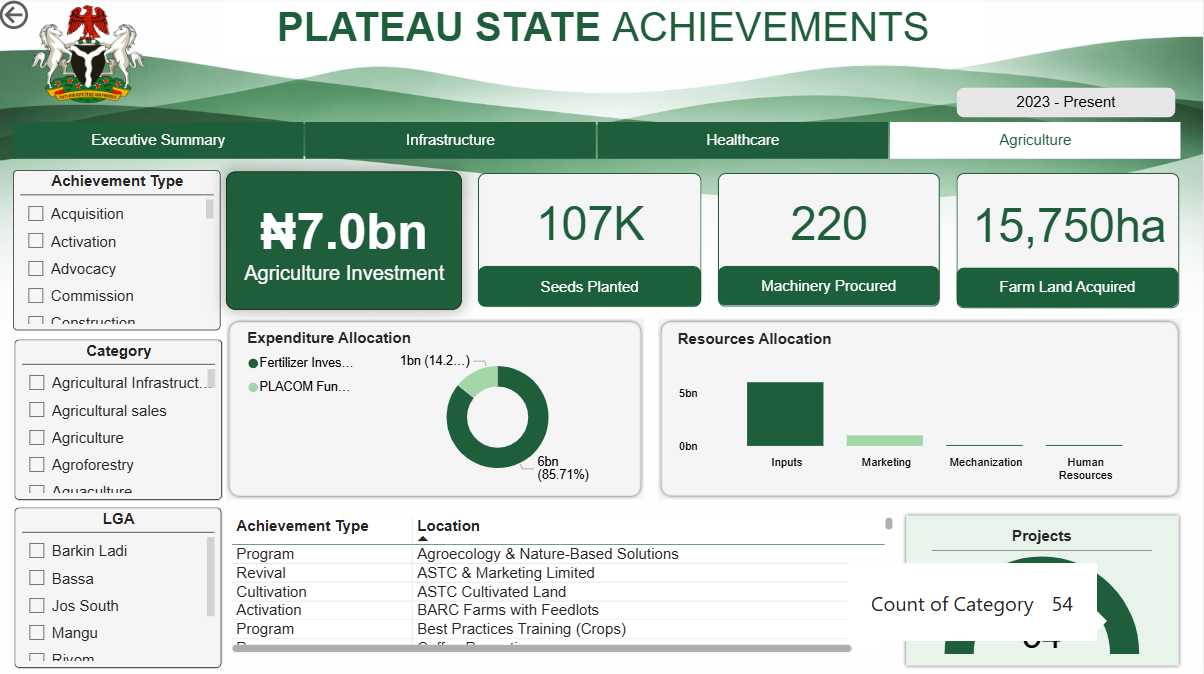

The dashboard page shown, as its layout file describes it:
{"tool":"powerbi","page":{"name":"Agriculture","canvas":[1280,720],"ordinal":3},"visuals":[{"type":"textbox","box":[240.2,3.2,809.6,62],"z":0},{"type":"image","box":[0,0,197.2,130.4],"z":1000},{"type":"pageNavigator","box":[19.1,133.6,1239.1,39.8],"z":2000},{"type":"shape","box":[1018,95.4,235.4,35],"z":3000},{"type":"slicer","title":"Achievement Type","fields":{"Values":["KPI_Agriculture.Achievement Type"]},"box":[19.1,184.5,220,170],"z":4000},{"type":"textbox","box":[245,186.8,250,146.6],"z":5000,"group":"g3"},{"type":"slicer","title":"Category","fields":{"Values":["KPI_Agriculture.Category"]},"box":[20,364,220,170],"z":5000},{"type":"card","fields":{"Values":["00_Measures.Agriculture Investment"]},"box":[245,185,250,146.6],"z":6000,"group":"g3"},{"type":"slicer","title":"LGA","fields":{"Values":["KPI_Agriculture.LGA "]},"box":[20.7,542.4,219.5,170.2],"z":6000},{"type":"group","id":"g1","title":"Group 1","box":[765,185,238.3,146.7],"z":7000},{"type":"shape","box":[510,186.8,240,144.9],"z":7000,"group":"g2"},{"type":"group","id":"g2","title":"Group 3","box":[510,185,240,146.7],"z":8000},{"type":"shape","box":[765,186.8,238.3,144.9],"z":8000,"group":"g1"},{"type":"group","id":"g3","title":"Group 4","box":[245,185,250,146.7],"z":9000},{"type":"shape","box":[1018.3,186.7,239.3,146.7],"z":9000,"group":"g4"},{"type":"card","fields":{"Values":["00_Measures.Seeds Planted"]},"box":[510,185,240,105.5],"z":10000,"group":"g2"},{"type":"group","id":"g4","title":"Group 5","box":[1018.3,186.7,240,146.7],"z":10000},{"type":"card","fields":{"Values":["00_Measures.Agricultural Machinery Procured"]},"box":[765,185,238.3,105.5],"z":11000,"group":"g1"},{"type":"shape","box":[961.7,546.7,296.7,166.7],"z":11000},{"type":"card","fields":{"Values":["00_Measures.Farm Land Acquired"]},"box":[1019.5,187,238.8,106.6],"z":12000,"group":"g4"},{"type":"gauge","title":"Projects","fields":{"Y":["CountNonNull(KPI_Agriculture.Category)"]},"box":[973.3,558.3,273.3,143.3],"z":12000},{"type":"actionButton","box":[0,0,100,40],"z":13000},{"type":"shape","box":[510,285.2,240,46.5],"z":13000,"group":"g2"},{"type":"shape","box":[765,285.8,238.1,45],"z":14000,"group":"g1"},{"type":"tableEx","fields":{"Values":["KPI_Agriculture.Achievement Type","KPI_Agriculture.Location"]},"box":[245,547.2,712.6,154.3],"z":14000},{"type":"shape","box":[1018.3,287,238.5,45.4],"z":15000,"group":"g4"},{"type":"group","id":"g5","title":"Group 6","box":[245,341.7,436.7,193.3],"z":15000},{"type":"shape","box":[245,341.7,443.2,191.8],"z":15000,"group":"g5"},{"type":"group","id":"g6","title":"Group 7","box":[703.3,341.7,555,191.7],"z":16000},{"type":"shape","box":[703.3,341.7,555,191.7],"z":16000,"group":"g6"},{"type":"donutChart","title":"Expenditure Allocation","fields":{"Category":["KPI_Agriculture.Location"],"Y":["Sum(KPI_Agriculture.Value)"]},"box":[263.2,352.9,418,168.2],"z":16000,"group":"g5"},{"type":"columnChart","title":"Resources Allocation","fields":{"Y":["Sum(KPI_Agriculture.Value)"],"Category":["KPI_Agriculture.Category"]},"box":[718.6,355,526.8,168],"z":17000,"group":"g6"}]}

Visuals, with their boxes on the page's 1280x720 design canvas (x1, y1, x2, y2). These are canvas units, not pixel positions in the 1204x674 screenshot, which may show the page scaled, cropped or inside an application window:
textbox: {"x1": 240, "y1": 3, "x2": 1050, "y2": 65}
image: {"x1": 0, "y1": 0, "x2": 197, "y2": 130}
pageNavigator: {"x1": 19, "y1": 134, "x2": 1258, "y2": 173}
shape: {"x1": 1018, "y1": 95, "x2": 1253, "y2": 130}
"Achievement Type" slicer: {"x1": 19, "y1": 184, "x2": 239, "y2": 354}
textbox: {"x1": 245, "y1": 187, "x2": 495, "y2": 333}
"Category" slicer: {"x1": 20, "y1": 364, "x2": 240, "y2": 534}
card - 00_Measures.Agriculture Investment: {"x1": 245, "y1": 185, "x2": 495, "y2": 332}
"LGA" slicer: {"x1": 21, "y1": 542, "x2": 240, "y2": 713}
"Group 1" group: {"x1": 765, "y1": 185, "x2": 1003, "y2": 332}
shape: {"x1": 510, "y1": 187, "x2": 750, "y2": 332}
"Group 3" group: {"x1": 510, "y1": 185, "x2": 750, "y2": 332}
shape: {"x1": 765, "y1": 187, "x2": 1003, "y2": 332}
"Group 4" group: {"x1": 245, "y1": 185, "x2": 495, "y2": 332}
shape: {"x1": 1018, "y1": 187, "x2": 1258, "y2": 333}
card - 00_Measures.Seeds Planted: {"x1": 510, "y1": 185, "x2": 750, "y2": 290}
"Group 5" group: {"x1": 1018, "y1": 187, "x2": 1258, "y2": 333}
card - 00_Measures.Agricultural Machinery Procured: {"x1": 765, "y1": 185, "x2": 1003, "y2": 290}
shape: {"x1": 962, "y1": 547, "x2": 1258, "y2": 713}
card - 00_Measures.Farm Land Acquired: {"x1": 1020, "y1": 187, "x2": 1258, "y2": 294}
"Projects" gauge: {"x1": 973, "y1": 558, "x2": 1247, "y2": 702}
actionButton: {"x1": 0, "y1": 0, "x2": 100, "y2": 40}
shape: {"x1": 510, "y1": 285, "x2": 750, "y2": 332}
shape: {"x1": 765, "y1": 286, "x2": 1003, "y2": 331}
tableEx - KPI_Agriculture.Achievement Type x KPI_Agriculture.Location: {"x1": 245, "y1": 547, "x2": 958, "y2": 702}
shape: {"x1": 1018, "y1": 287, "x2": 1257, "y2": 332}
"Group 6" group: {"x1": 245, "y1": 342, "x2": 682, "y2": 535}
shape: {"x1": 245, "y1": 342, "x2": 688, "y2": 534}
"Group 7" group: {"x1": 703, "y1": 342, "x2": 1258, "y2": 533}
shape: {"x1": 703, "y1": 342, "x2": 1258, "y2": 533}
"Expenditure Allocation" donutChart: {"x1": 263, "y1": 353, "x2": 681, "y2": 521}
"Resources Allocation" columnChart: {"x1": 719, "y1": 355, "x2": 1245, "y2": 523}
